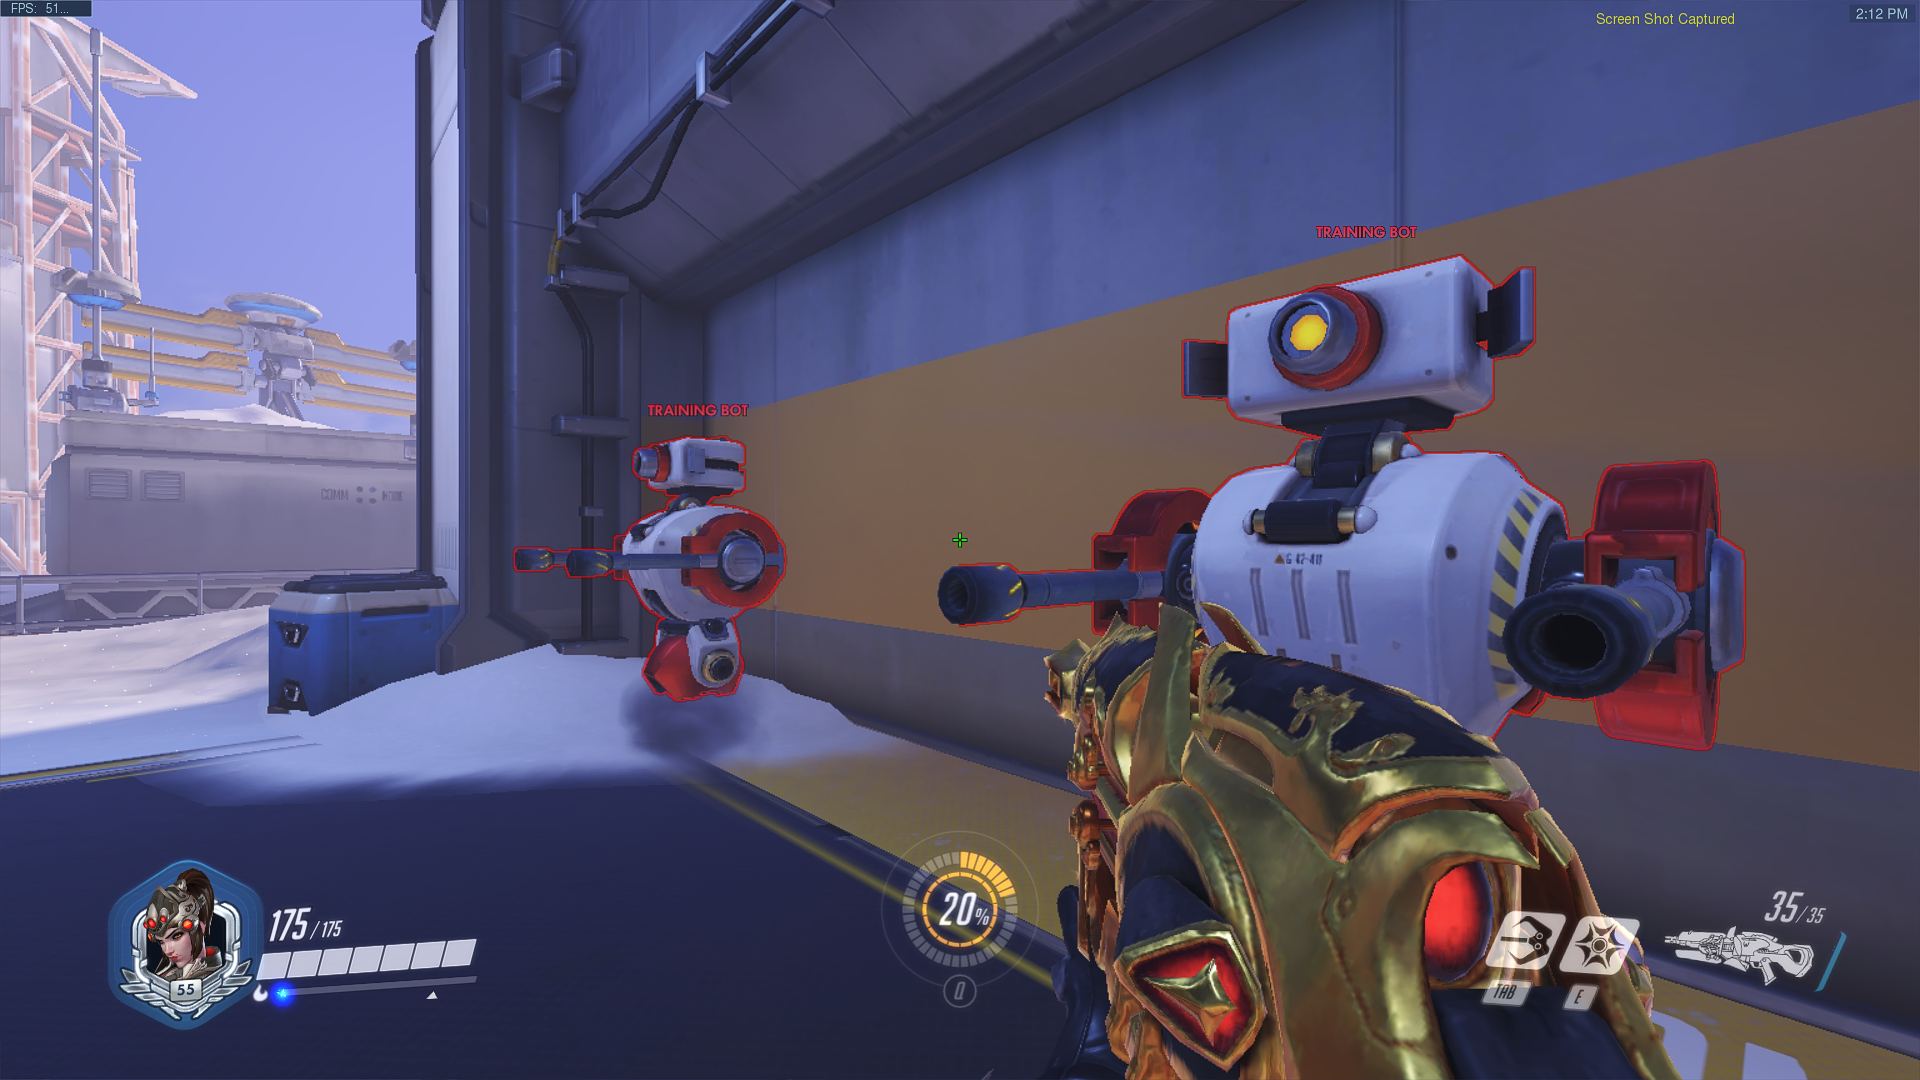head: (1168, 272, 1567, 435), (624, 434, 782, 494)
